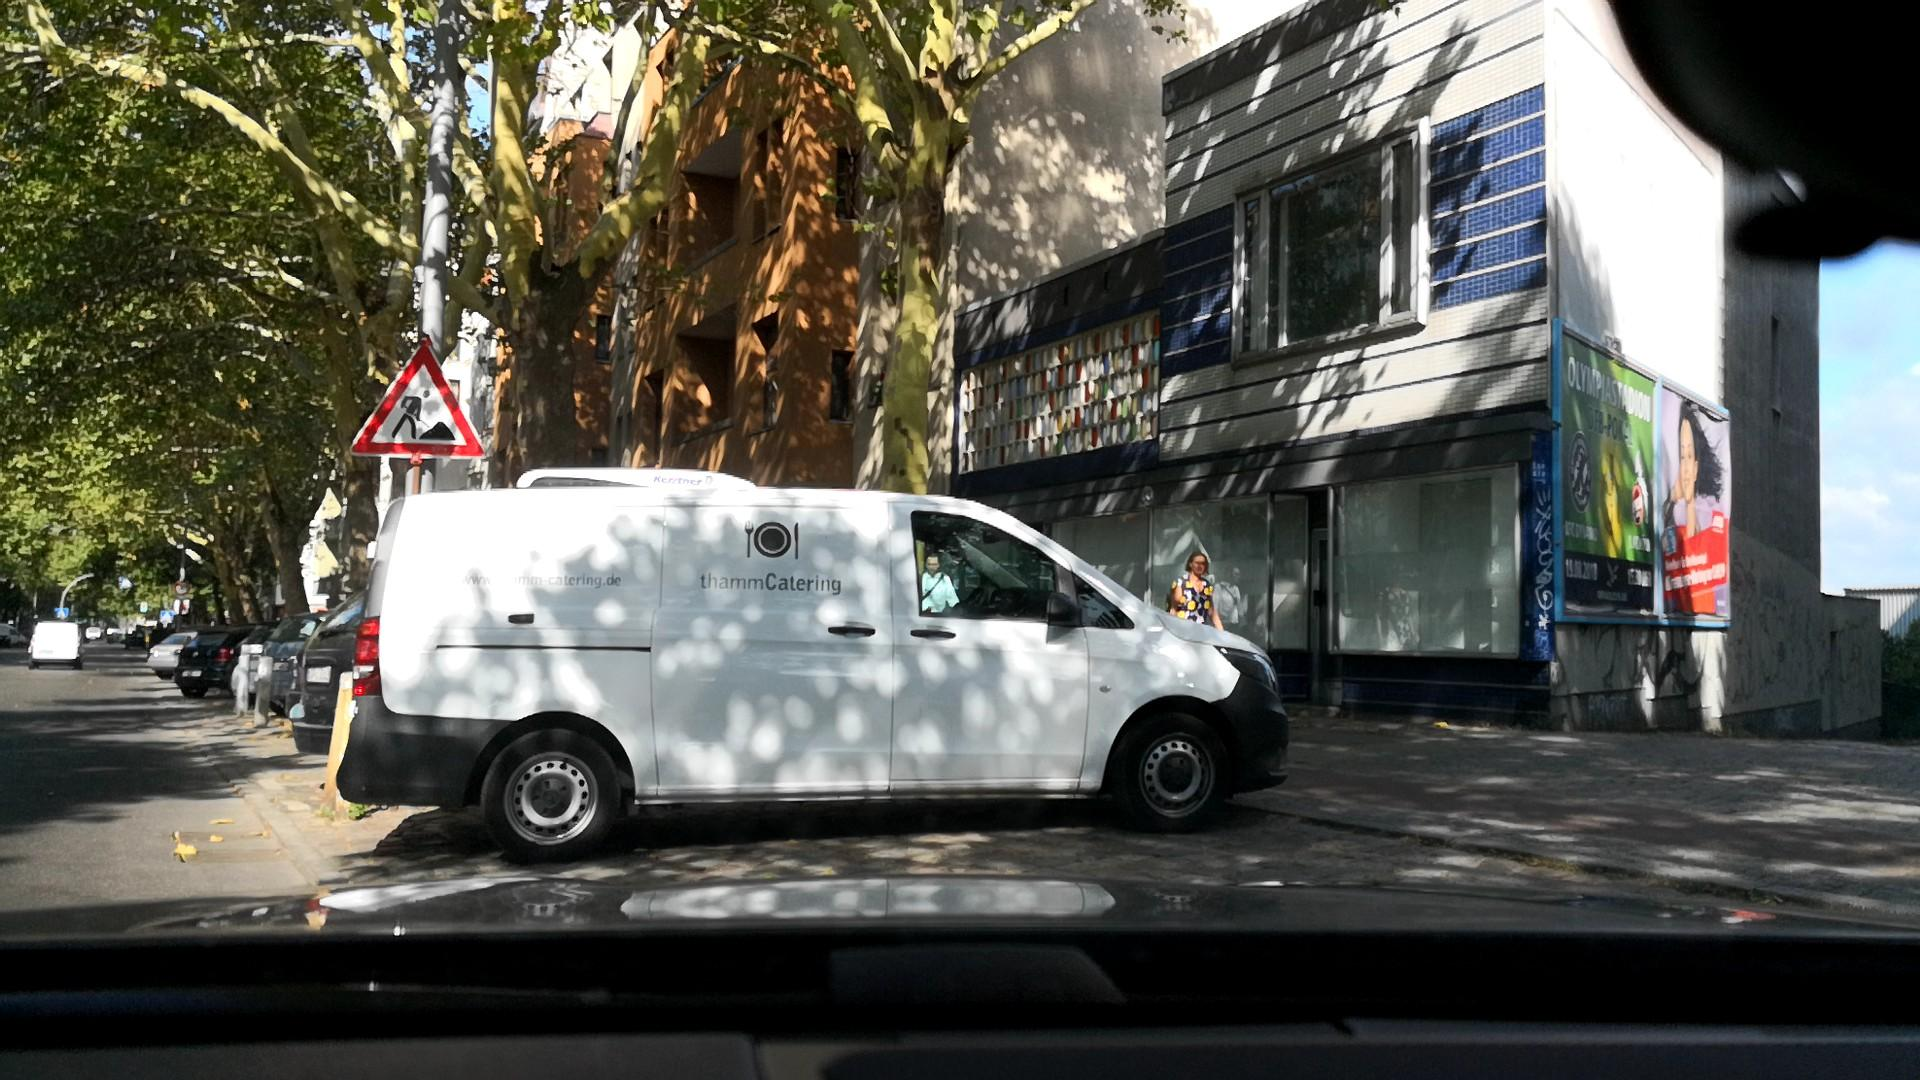Human face: (1677, 415, 1702, 504), (1187, 550, 1209, 576), (922, 552, 942, 576)
Vehicle registration plate: (305, 666, 331, 685)
